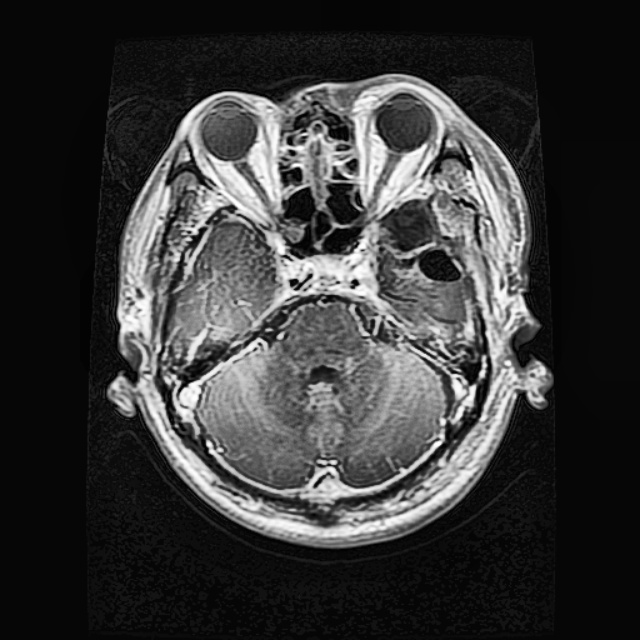Glioma: (375, 203, 482, 350)
